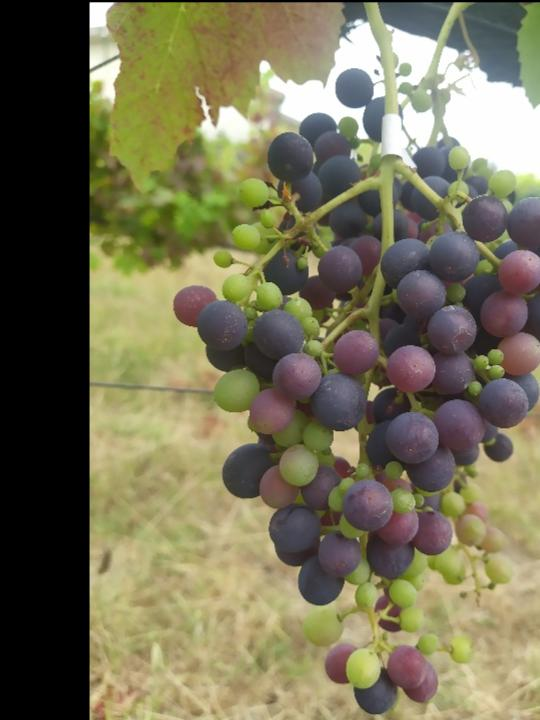grape: (171, 65, 540, 717)
